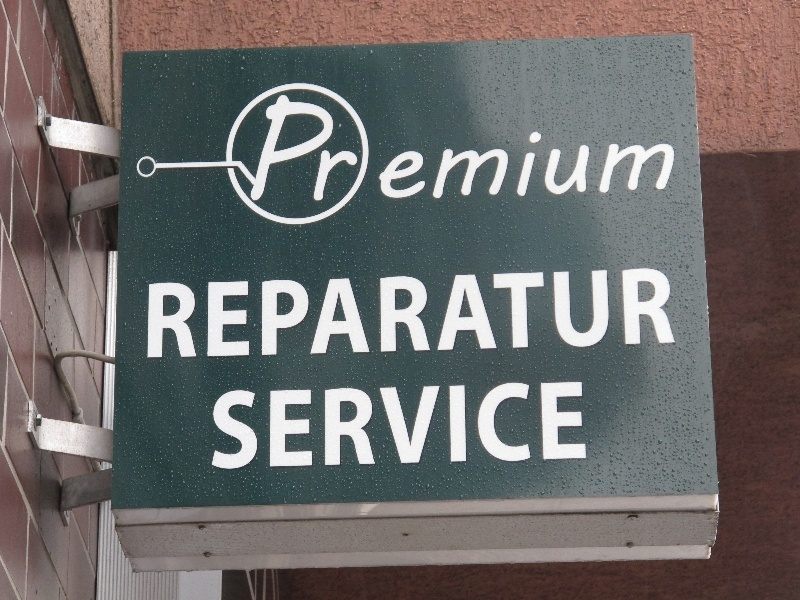text: (273, 90, 288, 203), (289, 90, 304, 203), (305, 90, 320, 203), (321, 90, 336, 203), (337, 90, 352, 203), (353, 90, 368, 203), (161, 267, 176, 362), (177, 267, 192, 362), (193, 267, 208, 362), (209, 267, 224, 362), (225, 267, 240, 362), (241, 267, 256, 362), (257, 267, 272, 362), (273, 267, 288, 362), (289, 267, 304, 362), (305, 267, 320, 362), (321, 267, 336, 362), (337, 267, 352, 362), (353, 267, 368, 362), (369, 267, 384, 362), (385, 267, 400, 362), (401, 267, 416, 362), (417, 267, 432, 362), (433, 267, 448, 362), (449, 267, 464, 362), (465, 267, 480, 362), (481, 267, 496, 362), (497, 267, 512, 362), (513, 267, 528, 362), (529, 267, 544, 362), (545, 267, 560, 362), (561, 267, 576, 362), (577, 267, 592, 362), (593, 267, 608, 362), (609, 267, 624, 362), (625, 267, 640, 362), (641, 267, 656, 362), (657, 267, 672, 362), (225, 379, 240, 472), (241, 379, 256, 472), (257, 379, 272, 472), (273, 379, 288, 472), (289, 379, 304, 472), (305, 379, 320, 472), (321, 379, 336, 472), (337, 379, 352, 472), (353, 379, 368, 472), (369, 379, 384, 472), (385, 379, 400, 472), (401, 379, 416, 472), (417, 379, 432, 472), (433, 379, 448, 472), (449, 379, 464, 472), (465, 379, 480, 472), (481, 379, 496, 472), (497, 379, 512, 472), (513, 379, 528, 472), (529, 379, 544, 472), (545, 379, 560, 472), (561, 379, 576, 472), (385, 124, 400, 202), (401, 124, 416, 202), (417, 124, 432, 202), (433, 124, 448, 202), (449, 124, 464, 202), (465, 124, 480, 202), (481, 124, 496, 202), (497, 124, 512, 202), (513, 124, 528, 202), (529, 124, 544, 202), (545, 124, 560, 202), (561, 124, 576, 202), (577, 124, 592, 202), (593, 124, 608, 202), (609, 124, 624, 202), (625, 124, 640, 202), (641, 124, 656, 202), (657, 124, 672, 202), (148, 267, 160, 362), (577, 379, 589, 472), (214, 379, 224, 472), (375, 124, 384, 202), (673, 124, 681, 202), (673, 267, 677, 362), (270, 90, 272, 203)
